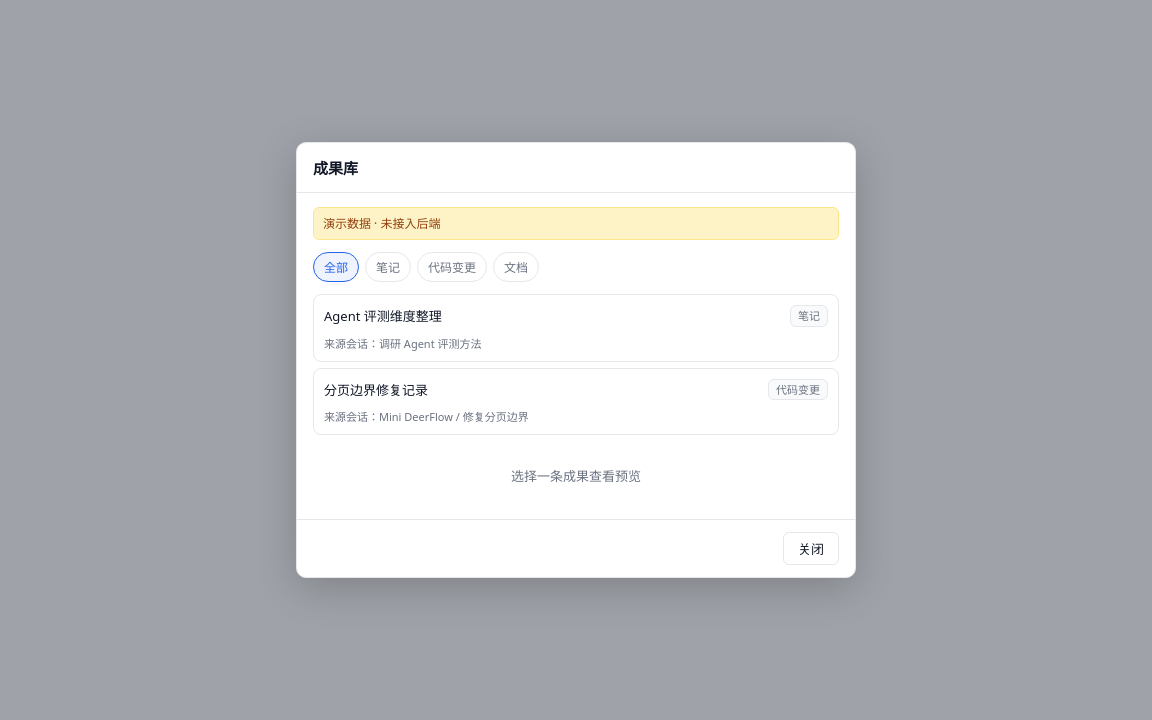
Test: ArtifactsDialog — 筛选 › 筛选无结果时显示清晰空态
The image size is (1152, 720).
Click the button "文档" at point(516, 267), box [493,252,539,282]
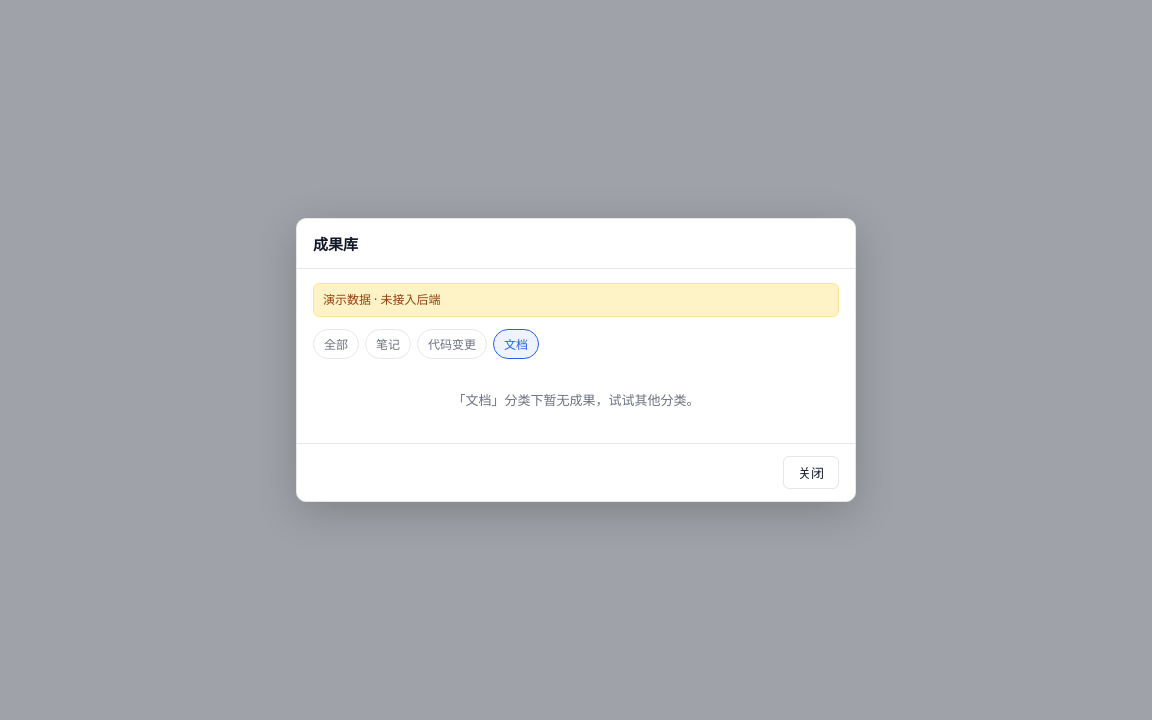
Check: the text "「文档」分类下暂无成果，试试其他分类。" is shown, box [452,390,700,408]
Check: the button "Agent 评测维度整理" is gone
Check: the text "选择一条成果查看预览" is gone
